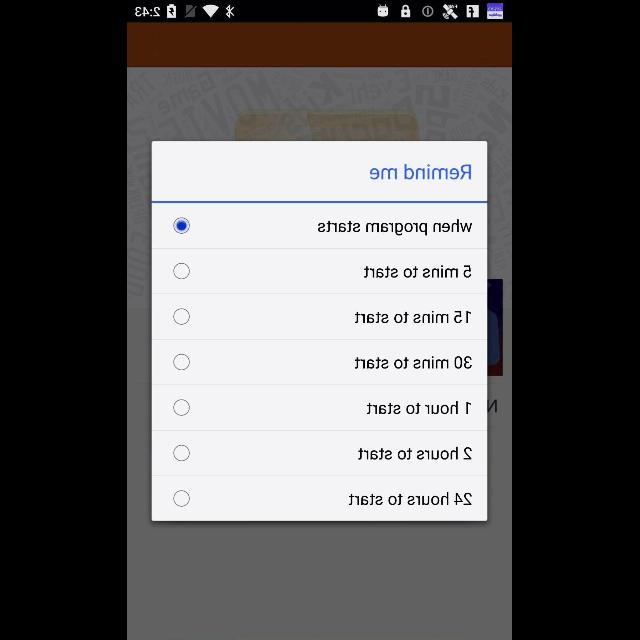checkbox: (174, 217, 190, 233), (174, 263, 190, 279), (174, 309, 190, 325), (174, 354, 190, 370), (174, 399, 190, 415), (174, 445, 190, 461), (174, 491, 190, 507)
panel: (152, 142, 488, 520)
text: (318, 220, 474, 237), (349, 492, 473, 506), (356, 310, 472, 324), (371, 164, 471, 180), (359, 446, 473, 460), (355, 356, 473, 369), (364, 266, 472, 278), (368, 402, 472, 414)
uppertaskbar: (128, 1, 512, 23)
